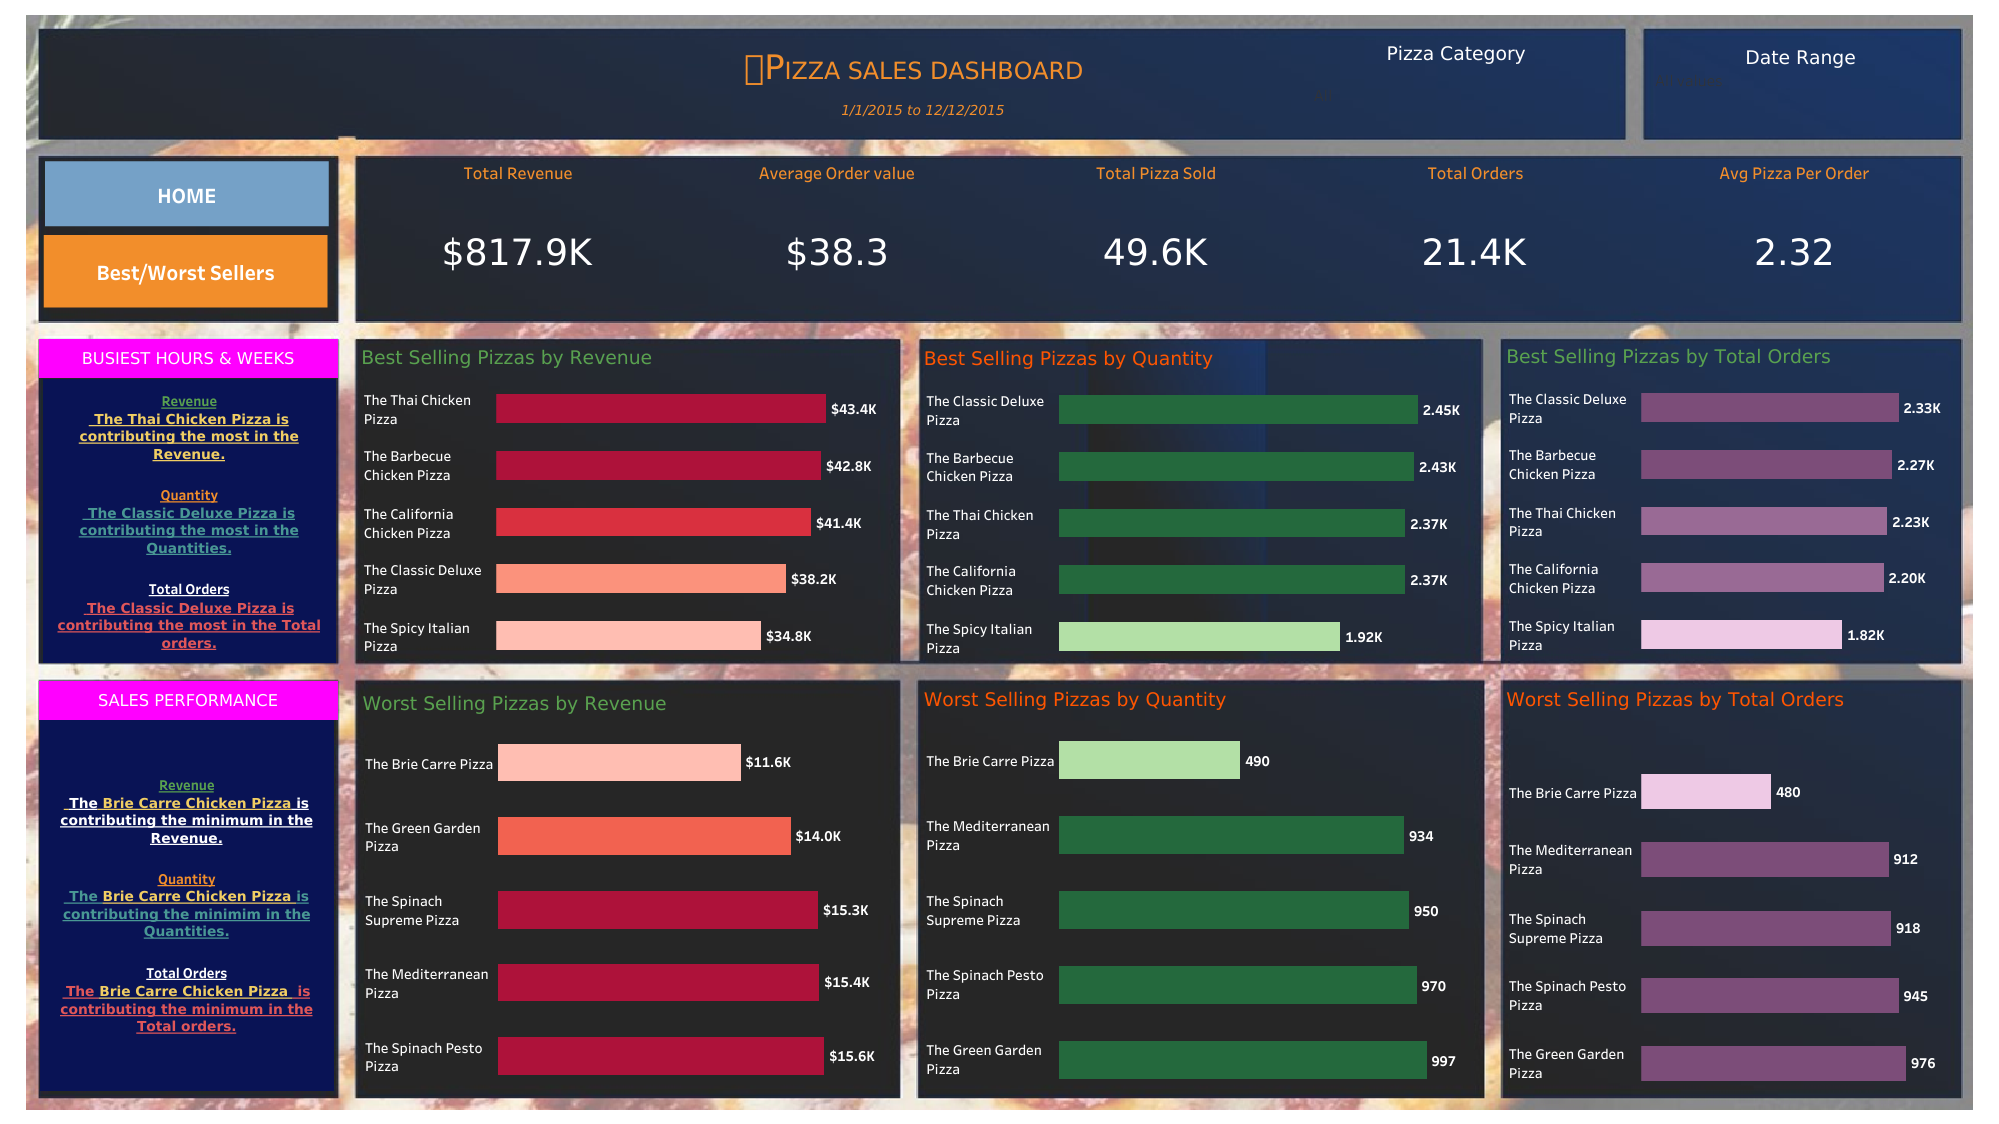

The page's visual inventory and layout, read from the dashboard file:
{"tool":"tableau","page":{"name":"Best / Worst Seller ","canvas":[1600,900],"ordinal":0},"visuals":[{"type":"image","param":"Image/pizza_dashboard_bg_2.jpg","box":[8,8,1584,884]},{"type":"text","box":[548,26,366,55]},{"type":"filter","title":"Date Range","param":"[federated.0rxyr2g0csmh531139cfr1olqhgw].[none:pizza_category:nk]","box":[1049,33,232,73]},{"type":"filter","title":"Date Range","param":"[federated.0rxyr2g0csmh531139cfr1olqhgw].[none:order_date:qk]","box":[1321,36,239,71]},{"type":"worksheet","title":"Date Range","mark":"Automatic","box":[472,67,533,42]},{"type":"worksheet","title":"KPIS","mark":"Automatic","box":[287,127,1276,131]},{"type":"dashboard-object","box":[36,129,227,52]},{"type":"dashboard-object","box":[35,188,227,58]},{"type":"worksheet","title":"Best Selling Pizza By Total Orders","mark":"Automatic","rows":["pizza_name"],"cols":["Calculation_4337810877746233346"],"box":[1201,270,366,260]},{"type":"text","box":[31,271,239,31]},{"type":"worksheet","title":"Best Selling Pizza By Revenue","mark":"Automatic","rows":["pizza_name"],"cols":["Calculation_4337810877747257348"],"box":[285,271,434,260]},{"type":"worksheet","title":"Best Selling Pizza By Quantity","mark":"Automatic","rows":["pizza_name"],"cols":["quantity"],"box":[735,272,451,260]},{"type":"text","box":[34,303,235,227]},{"type":"text","box":[31,545,239,31]},{"type":"worksheet","title":"Worst Selling Pizza By Quantity","mark":"Automatic","rows":["pizza_name"],"cols":["quantity"],"box":[735,545,449,332]},{"type":"worksheet","title":"Worst Selling Pizza By Total orders","mark":"Automatic","rows":["pizza_name"],"cols":["Calculation_4337810877746233346"],"box":[1201,545,363,332]},{"type":"worksheet","title":"Worst Selling Pizza By Revenue","mark":"Automatic","rows":["pizza_name"],"cols":["Calculation_4337810877747257348"],"box":[286,548,431,326]},{"type":"text","box":[32,575,235,298]}]}

Visuals, with their boxes in screenshot pixels (x1, y1, x2, y2), scaled from the page's 1600x900 canvas onto the 1999x1124 screenshot:
image: {"x1": 10, "y1": 10, "x2": 1989, "y2": 1114}
text: {"x1": 685, "y1": 32, "x2": 1142, "y2": 101}
"Date Range" filter: {"x1": 1311, "y1": 41, "x2": 1600, "y2": 132}
"Date Range" filter: {"x1": 1650, "y1": 45, "x2": 1949, "y2": 134}
"Date Range" worksheet: {"x1": 590, "y1": 84, "x2": 1256, "y2": 136}
"KPIS" worksheet: {"x1": 359, "y1": 159, "x2": 1953, "y2": 322}
dashboard-object: {"x1": 45, "y1": 161, "x2": 329, "y2": 226}
dashboard-object: {"x1": 44, "y1": 235, "x2": 327, "y2": 307}
"Best Selling Pizza By Total Orders" worksheet: {"x1": 1500, "y1": 337, "x2": 1958, "y2": 662}
text: {"x1": 39, "y1": 338, "x2": 337, "y2": 377}
"Best Selling Pizza By Revenue" worksheet: {"x1": 356, "y1": 338, "x2": 898, "y2": 663}
"Best Selling Pizza By Quantity" worksheet: {"x1": 918, "y1": 340, "x2": 1482, "y2": 664}
text: {"x1": 42, "y1": 378, "x2": 336, "y2": 662}
text: {"x1": 39, "y1": 681, "x2": 337, "y2": 719}
"Worst Selling Pizza By Quantity" worksheet: {"x1": 918, "y1": 681, "x2": 1479, "y2": 1095}
"Worst Selling Pizza By Total orders" worksheet: {"x1": 1500, "y1": 681, "x2": 1954, "y2": 1095}
"Worst Selling Pizza By Revenue" worksheet: {"x1": 357, "y1": 684, "x2": 896, "y2": 1092}
text: {"x1": 40, "y1": 718, "x2": 334, "y2": 1090}
